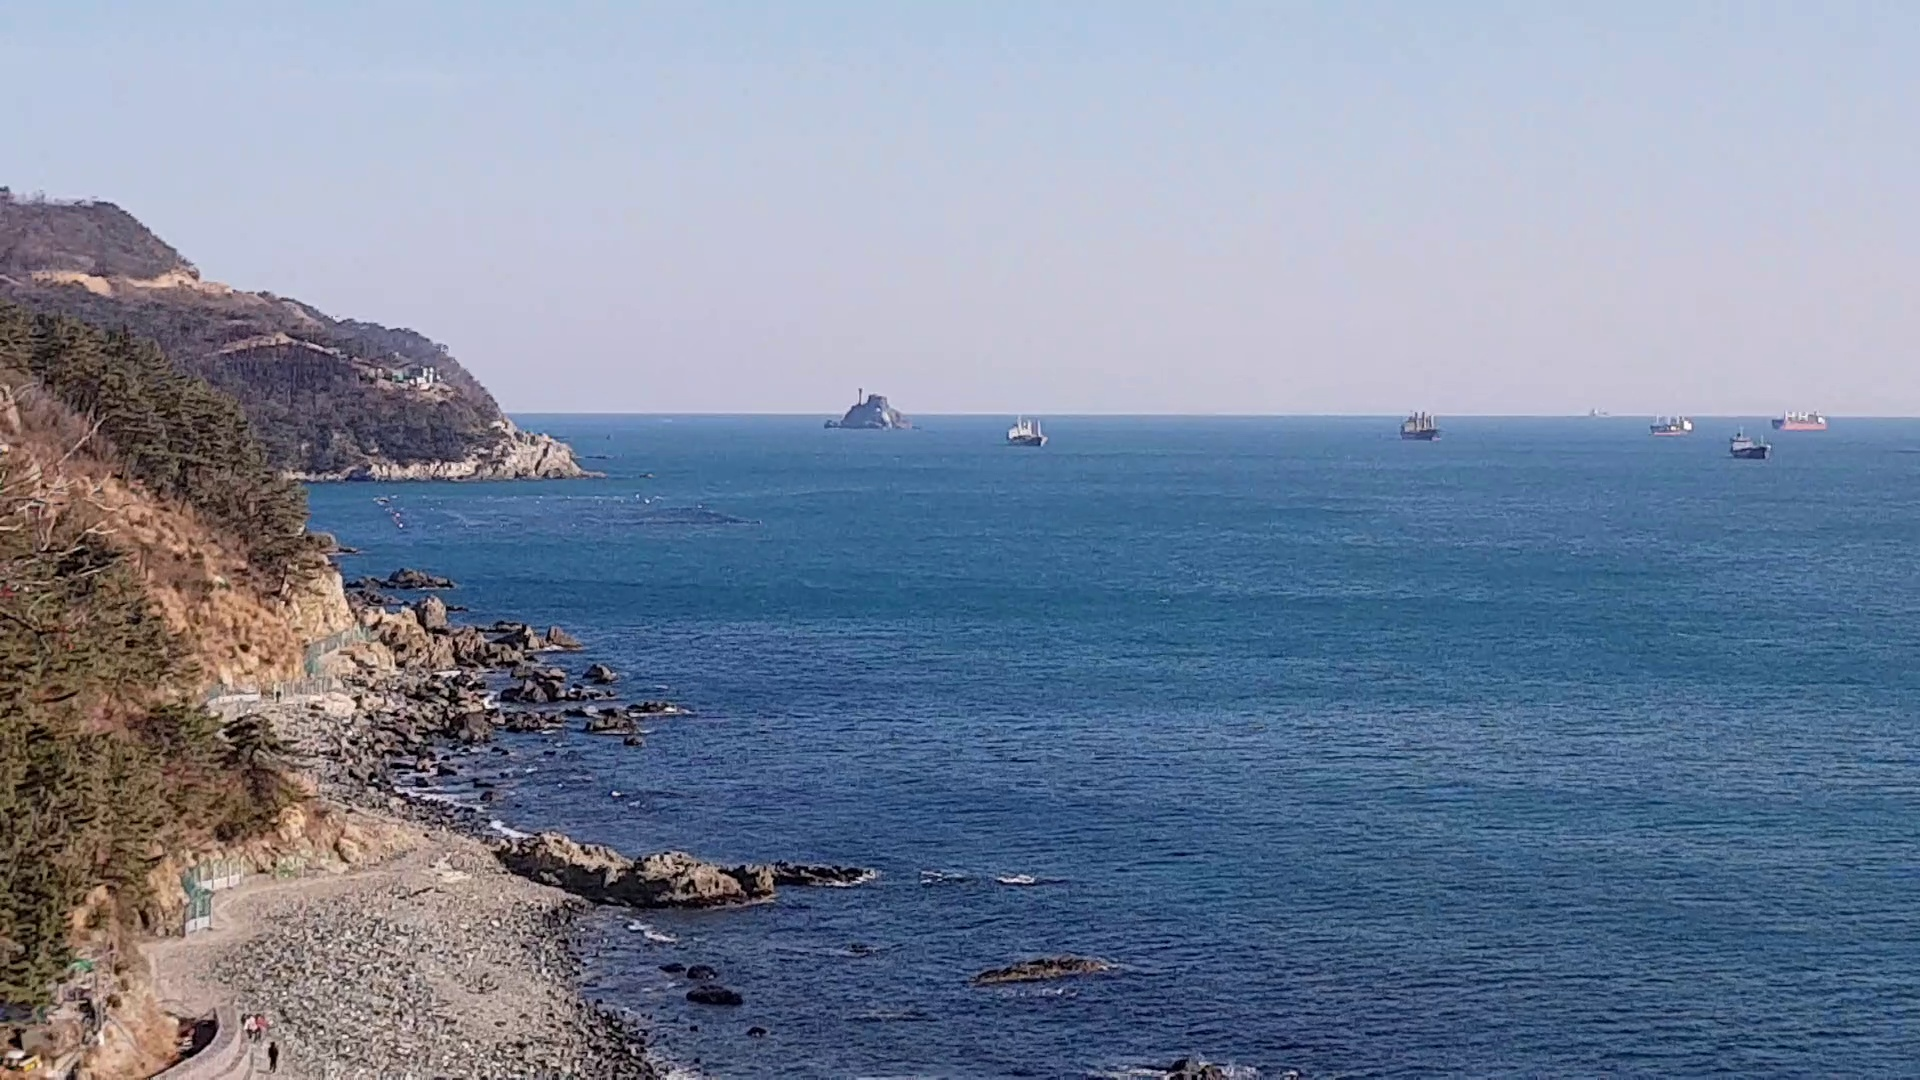Bulk_Carrier: (822, 402, 905, 429), (1722, 439, 1772, 455), (1398, 417, 1433, 436)
